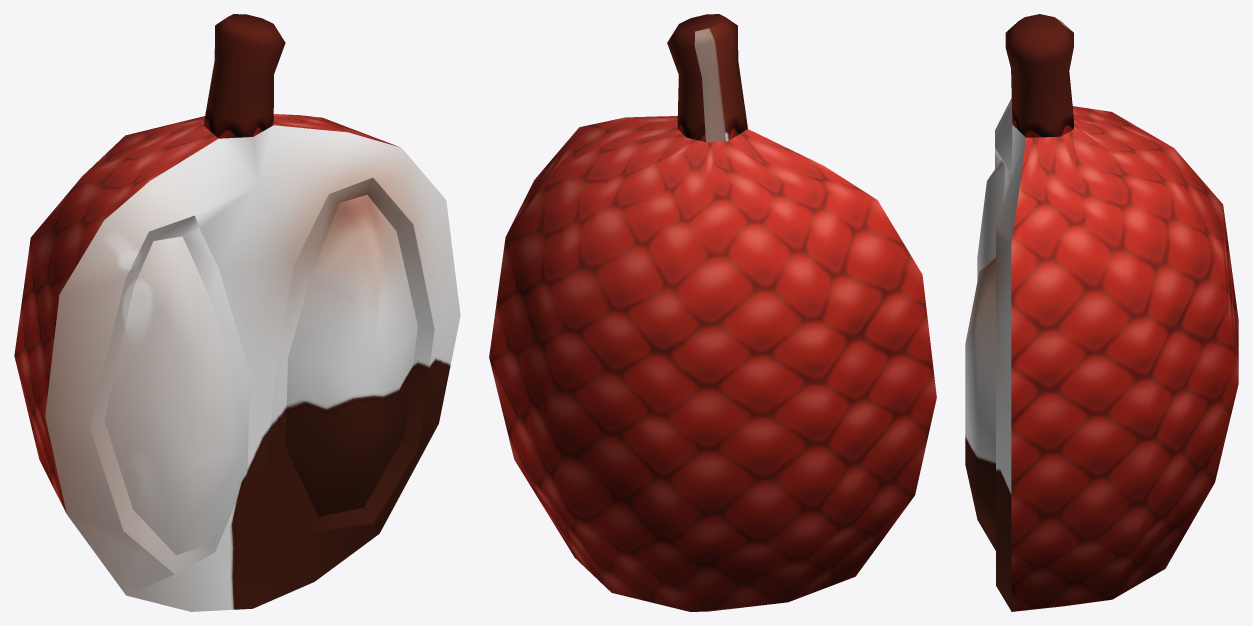
The model's file is Durian_Half.fbx.
3 views of the same model, side by side, from view 1: azimuth 30°, elevation 25°; view 2: azimuth 150°, elevation 25°; view 3: azimuth 270°, elevation 25° (orthographic).
Visible parts, largest first — view 1: Durian_Half; view 2: Durian_Half; view 3: Durian_Half.
Boxes of the visible parts, box(x1,y1,x2,y2) form: Durian_Half: box(14, 14, 460, 611); Durian_Half: box(489, 14, 936, 611); Durian_Half: box(965, 14, 1238, 611).
Size of the model in its own units: 64.23 by 85.4 by 36.76.
